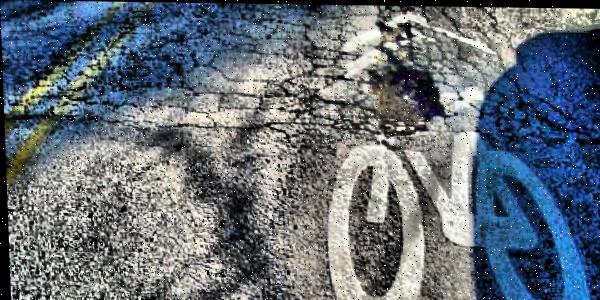pothole: (356, 55, 450, 142)
